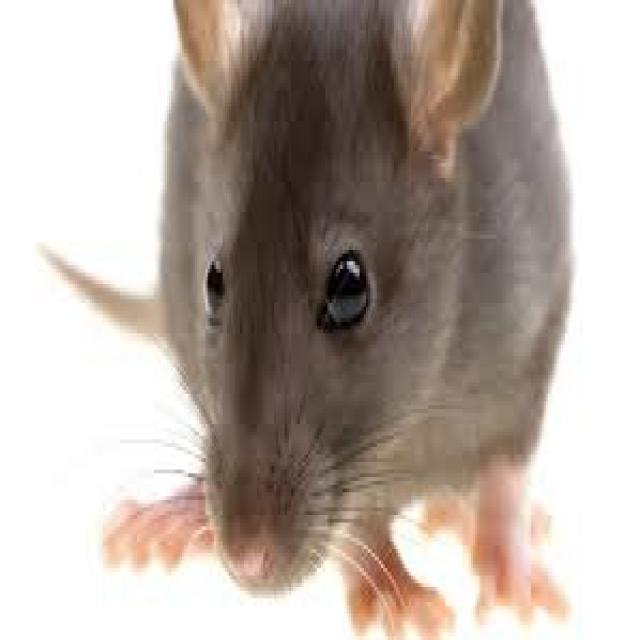rat: (54, 0, 569, 632)
